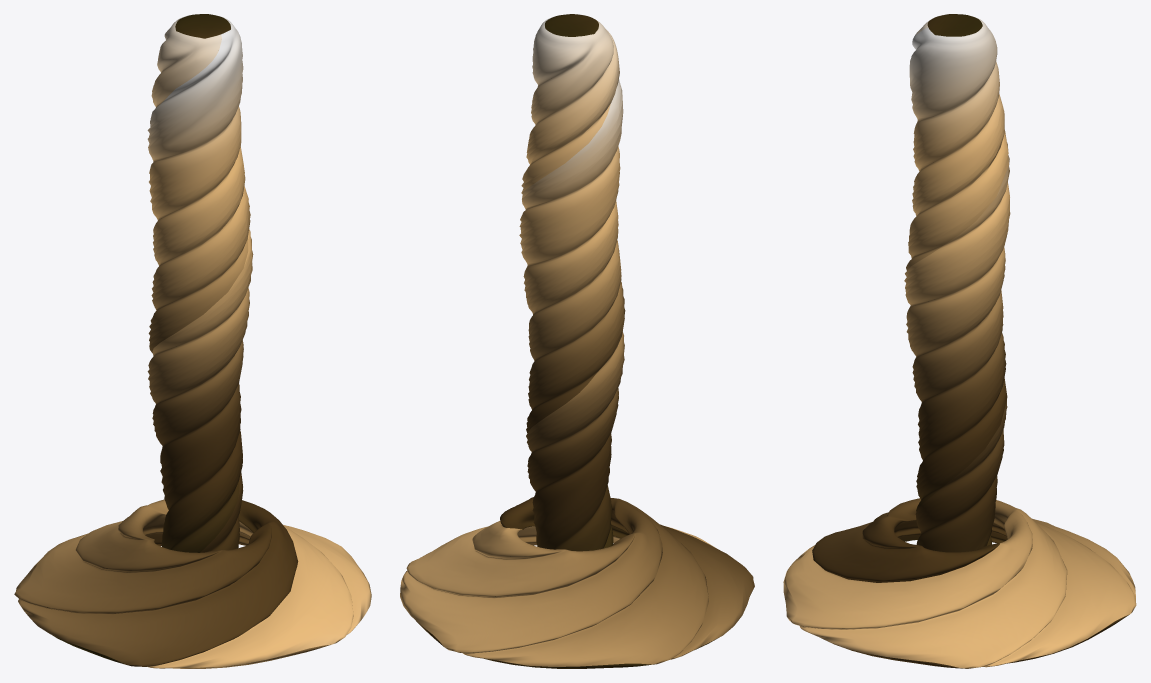
File: tripleDusty.glb
The picture shows the model from 3 angles, left to right: view 1: azimuth 30°, elevation 25°; view 2: azimuth 150°, elevation 25°; view 3: azimuth 270°, elevation 25°; orthographic projection.
Parts seen in each view (by area): view 1: pCylinder5, pCylinder6; view 2: pCylinder5, pCylinder6; view 3: pCylinder5, pCylinder6.
Boxes of the visible parts, x1,y1,x2,y2 form: pCylinder5: (147, 14, 253, 552); pCylinder6: (14, 499, 371, 668); pCylinder5: (519, 14, 625, 551); pCylinder6: (400, 497, 754, 668); pCylinder5: (904, 14, 1010, 552); pCylinder6: (783, 498, 1136, 668).
Size of the model in its own units: 20.72 by 36.79 by 20.44.
2 materials, 2 textured.
